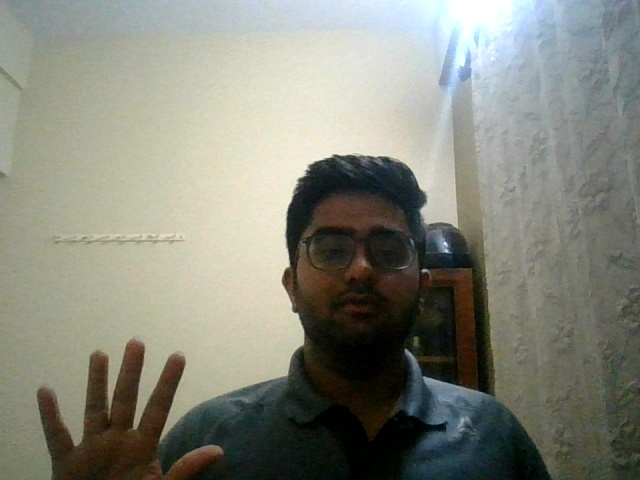Hello: (30, 333, 232, 477)
